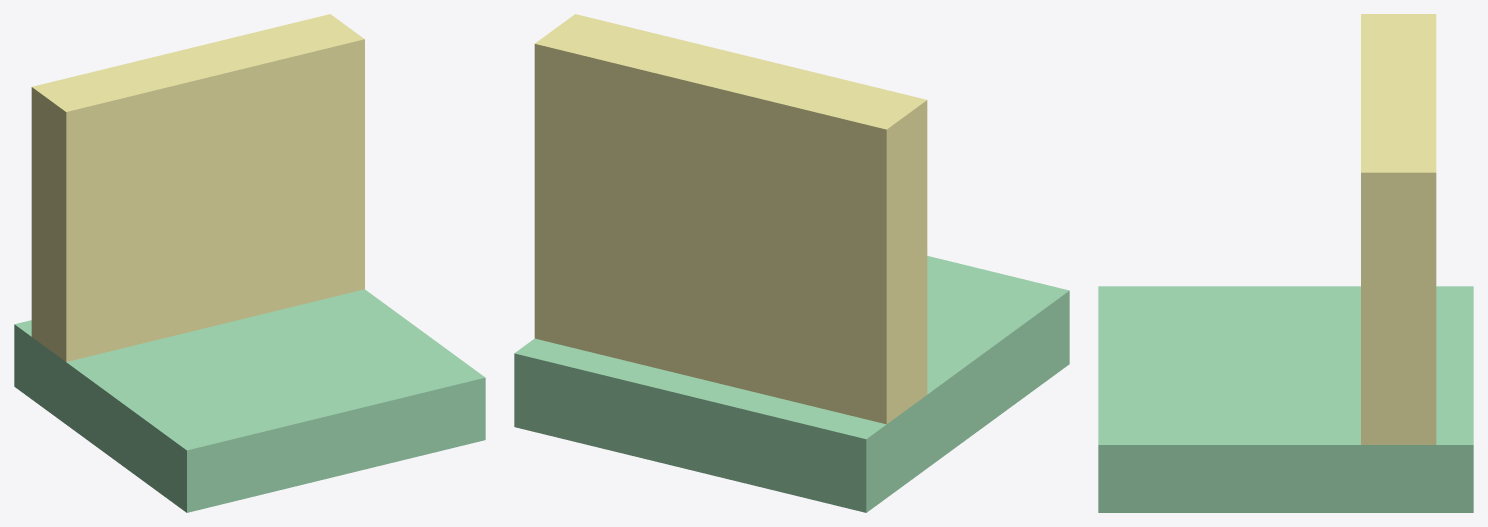
Rendered from BaseWall.fbx.
The picture shows the model from 3 angles, left to right: view 1: azimuth 30°, elevation 25°; view 2: azimuth 150°, elevation 25°; view 3: azimuth 270°, elevation 25°; orthographic projection. The views are drawn at different scales.
Visible parts, largest first — view 1: BaseWall; view 2: BaseWall; view 3: BaseWall.
Part boxes in pixels (left/top/right/bottom): BaseWall: left=14, top=14, right=485, bottom=512; BaseWall: left=514, top=14, right=1069, bottom=512; BaseWall: left=1098, top=14, right=1473, bottom=512.
Bounding box in the file's own units: 200 × 200 × 200.
